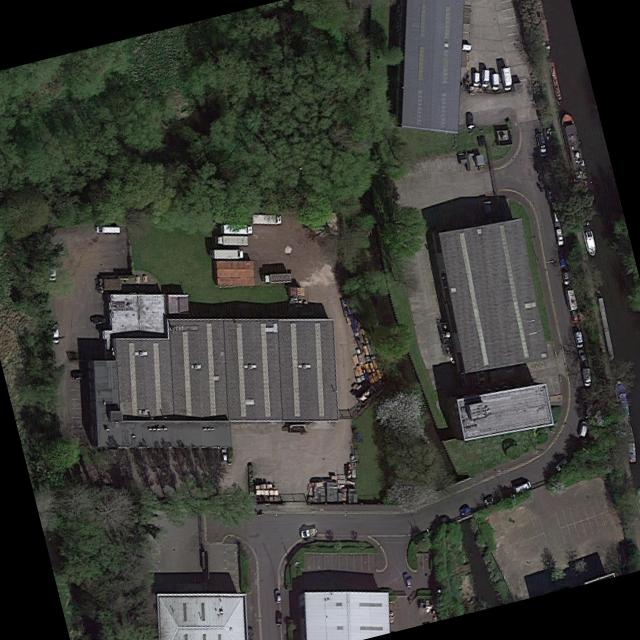large-vehicle: (211, 248, 244, 260), (564, 284, 578, 311), (220, 224, 253, 235), (215, 235, 248, 245), (252, 213, 282, 224), (500, 66, 513, 91), (261, 273, 292, 283), (512, 480, 531, 494), (299, 527, 319, 539), (582, 367, 592, 387), (481, 68, 490, 89), (574, 331, 584, 348), (578, 421, 588, 438), (96, 226, 120, 233), (492, 72, 500, 93), (473, 71, 480, 88)
ship: (557, 110, 590, 195), (593, 288, 616, 363), (534, 0, 553, 59), (578, 208, 599, 257), (546, 57, 564, 107), (621, 420, 638, 463), (613, 380, 630, 416), (635, 490, 640, 515)
small-vehicle: (536, 131, 549, 156), (554, 457, 569, 472), (483, 494, 498, 507), (551, 211, 561, 227), (402, 572, 412, 588), (51, 328, 60, 344), (466, 111, 474, 128), (556, 228, 564, 245), (558, 251, 567, 266), (577, 349, 587, 362), (458, 505, 471, 515), (48, 265, 56, 281), (72, 371, 86, 380), (570, 310, 578, 325), (562, 269, 570, 284), (274, 589, 282, 603), (90, 317, 106, 324), (220, 448, 227, 461), (458, 43, 471, 50), (276, 611, 282, 626)
